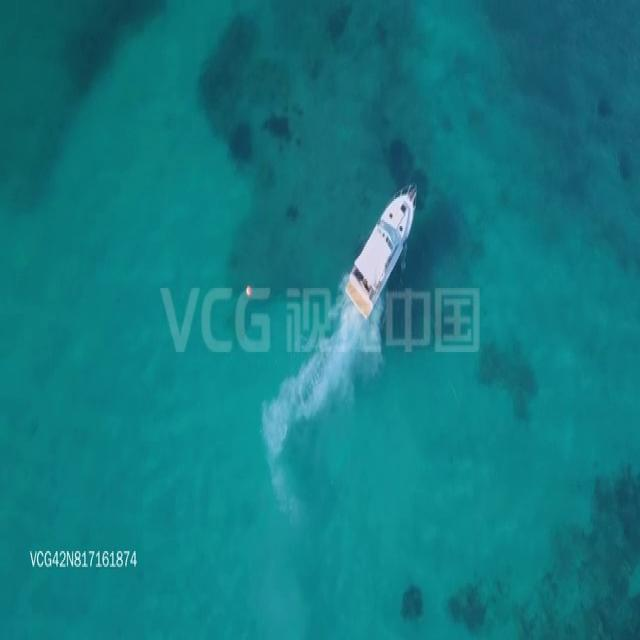houseboat: (340, 180, 420, 318)
